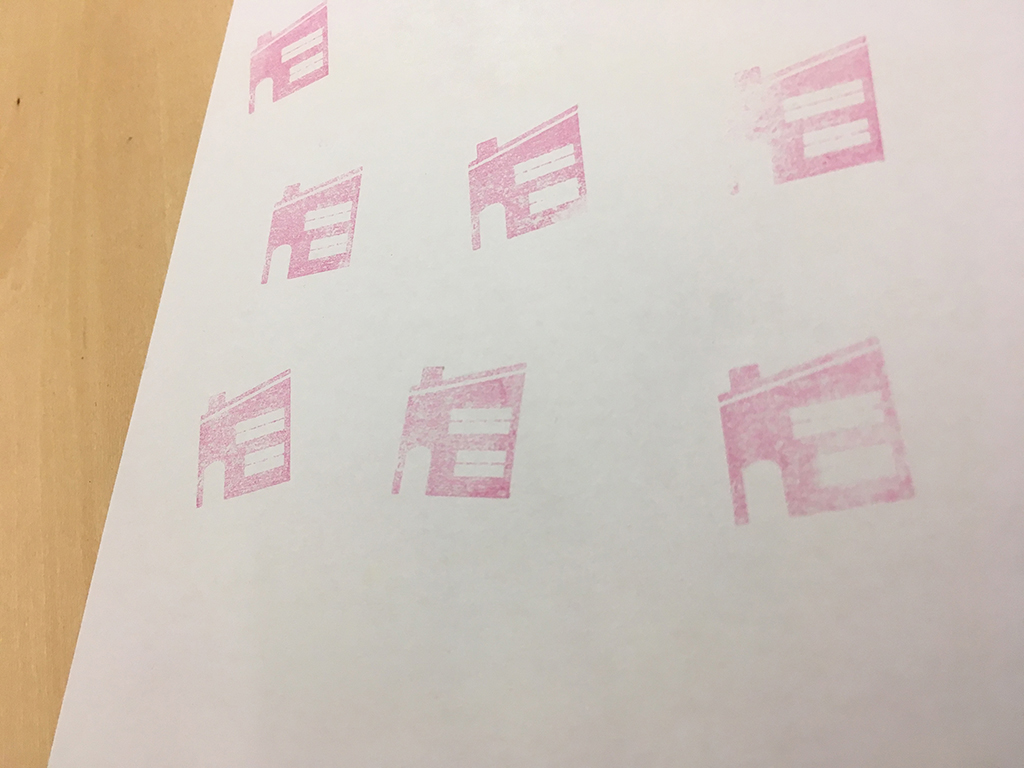house: (711, 321, 936, 544), (710, 26, 902, 216), (446, 97, 604, 260), (387, 349, 539, 516), (190, 359, 303, 525), (253, 159, 370, 292), (242, 1, 336, 121)
